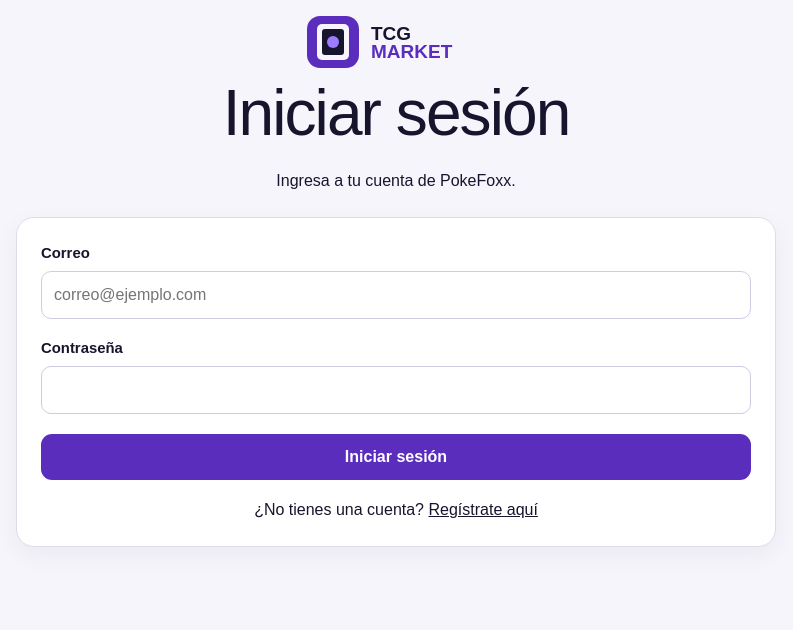
Scenario: Prueba Unitaria Login › debe mostrar error cuando las credenciales son incorrectas
Type "cliente@gmail.com" into the field labelled "Correo".
click(396, 295); type("cliente@gmail.com")  # box [41,271,751,319]
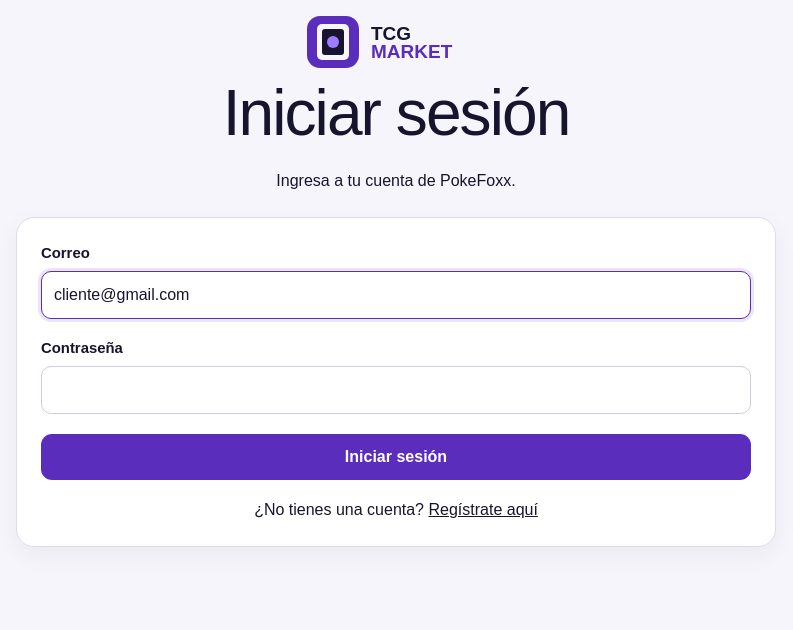
Type "incorrecta" into the password field labelled "Contraseña".
click(396, 390); type("incorrecta")  # box [41,366,751,414]
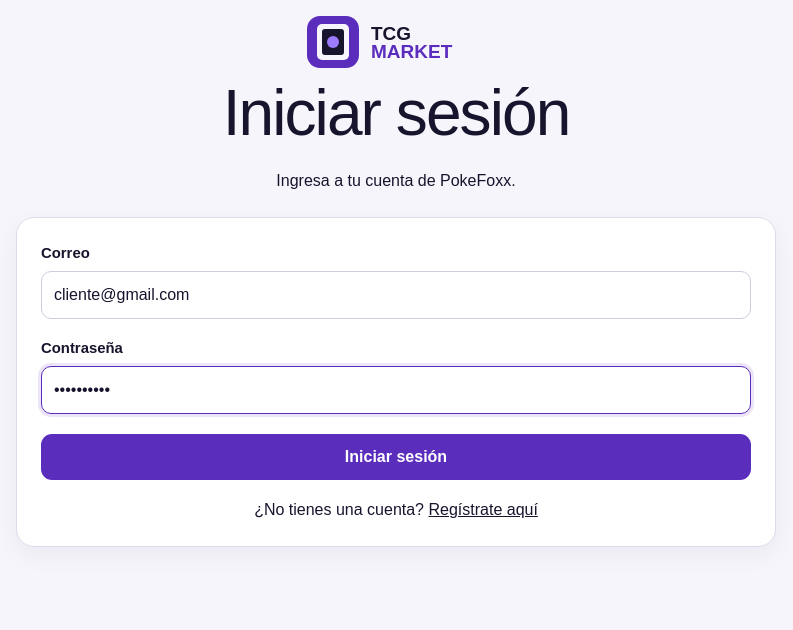
Click the button "Iniciar sesión".
click(396, 457)  # box [41,434,751,480]
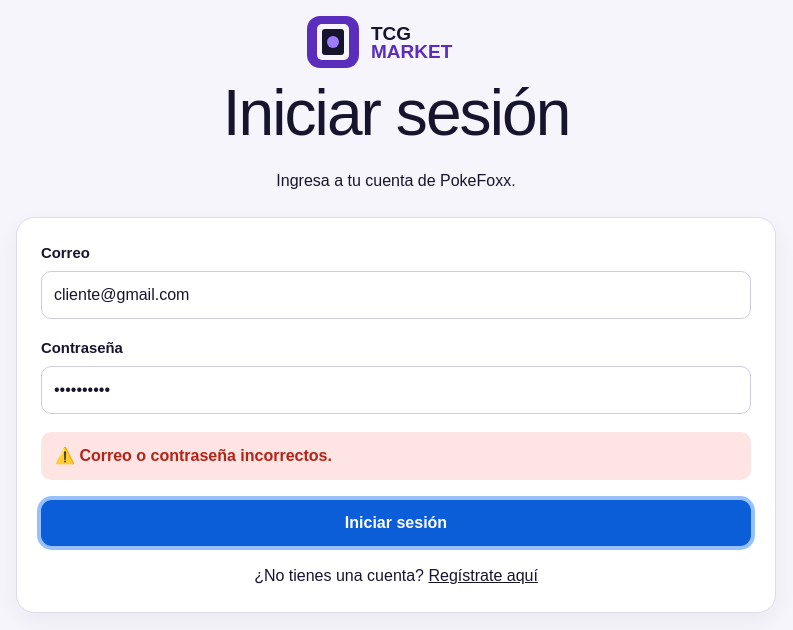
Now the text "⚠️ Correo o contraseña incorrectos." is shown, box [41,432,751,480]
